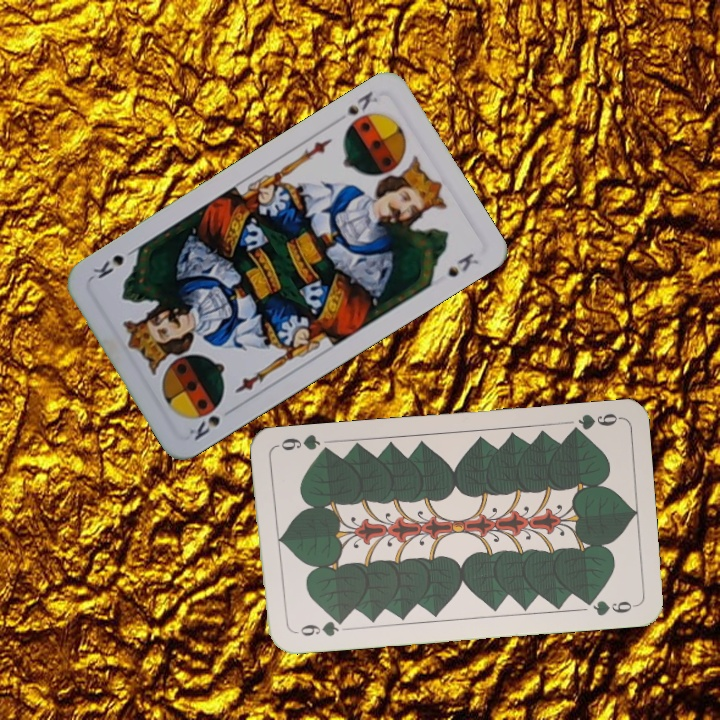G9: (564, 409, 623, 437), (289, 615, 348, 639)
SK: (331, 87, 380, 127), (185, 411, 223, 443)
